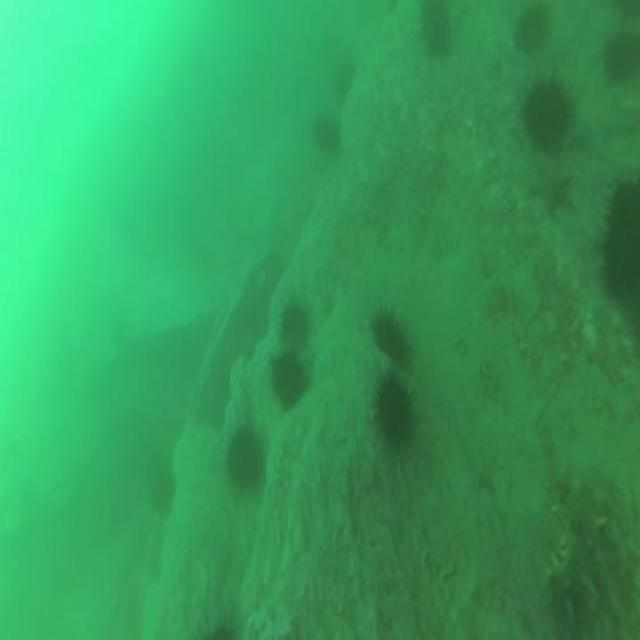echinus: (604, 180, 640, 316), (522, 78, 572, 150), (376, 375, 414, 444), (597, 30, 640, 82), (226, 431, 260, 487), (270, 352, 304, 408), (514, 6, 548, 58), (372, 315, 406, 365), (419, 2, 449, 55), (282, 300, 308, 346), (312, 120, 339, 157)
holothurian: (552, 484, 607, 591)
starfish: (577, 88, 632, 154), (528, 166, 573, 216)
